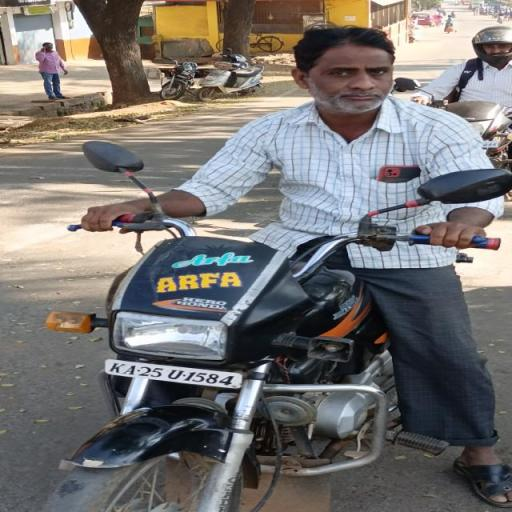bike: (18, 21, 503, 512)
numberplate: (106, 350, 248, 407)
withouthelmet: (294, 26, 396, 112)
